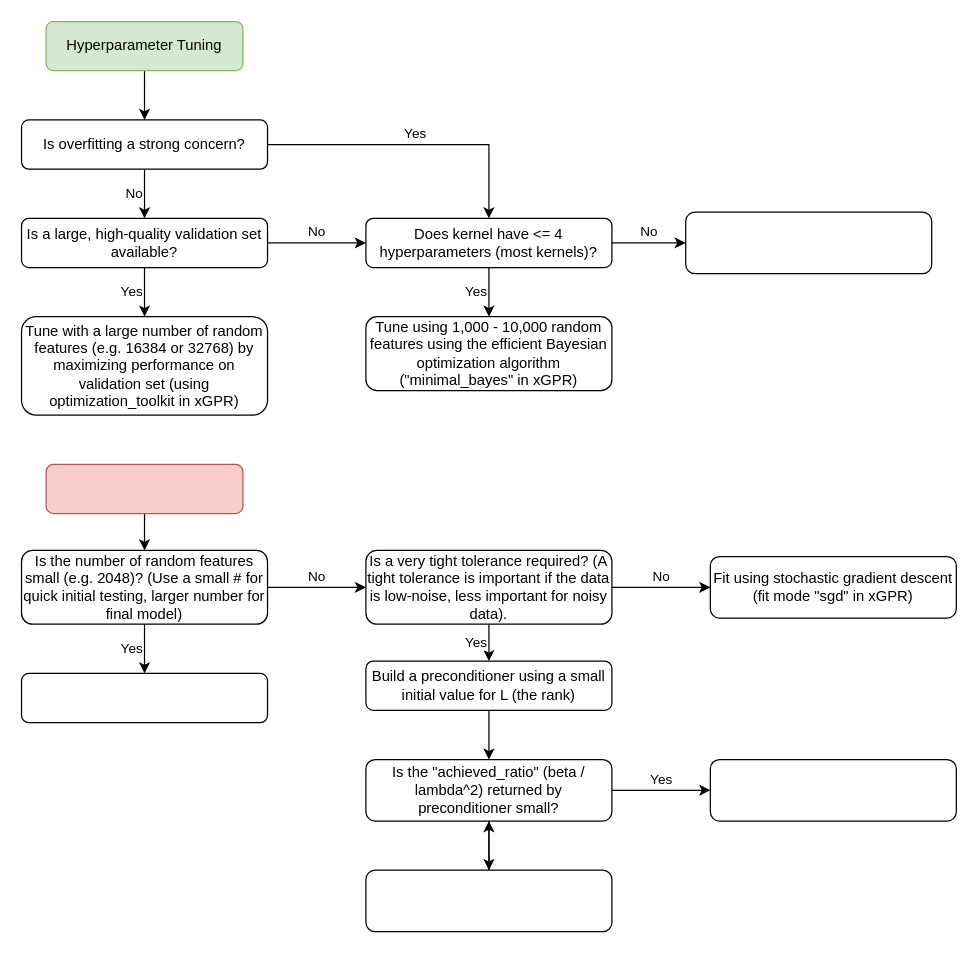
Image size: 978x953. Some labels were removed from this diagram. Here are the shapes that lost their labels. From the top down, the centre of each, then its label:
point (808, 242): Tune using 1,000 - 10,000 random features using Adam + L-BFGS in xGPR
point (144, 488): Fitting
point (144, 697): Use "exact" fitting
point (832, 789): Fit using preconditioned conjugate gradients (fit mode "cg" in xGPR)
point (488, 900): Double the L (rank) value and build a preconditioner
